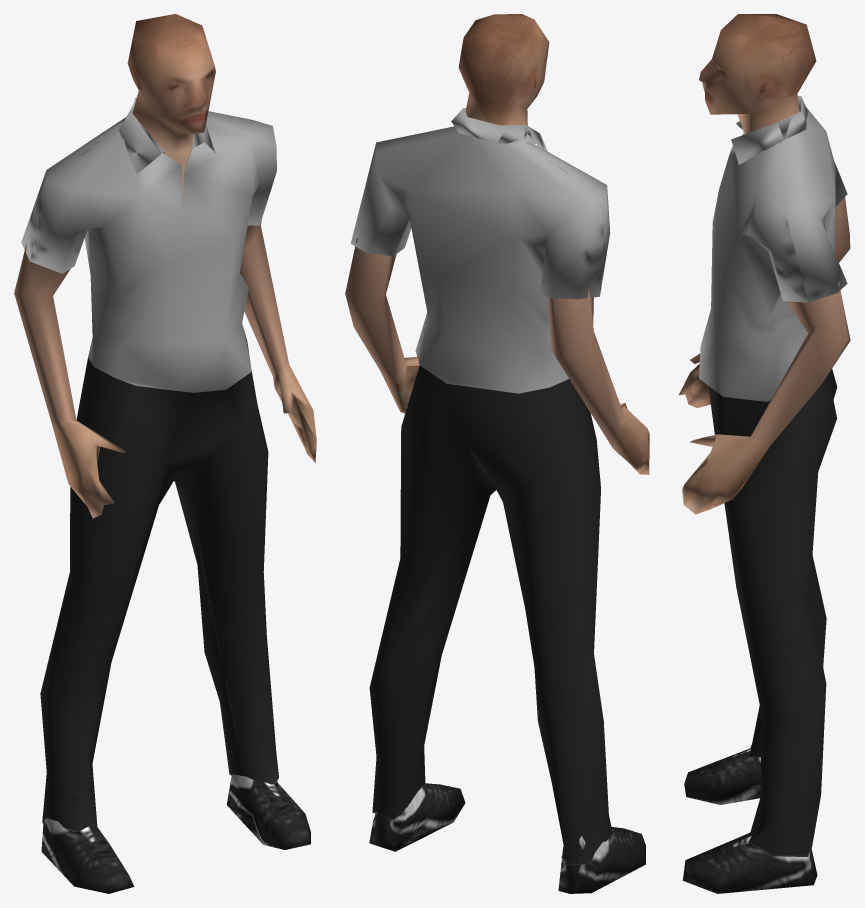
Rendered from LOW_Crew01_TEAM1_TW.fbx.
The picture shows the model from 3 angles, left to right: view 1: azimuth 30°, elevation 25°; view 2: azimuth 150°, elevation 25°; view 3: azimuth 270°, elevation 25°; orthographic projection.
Parts seen in each view (by area): view 1: LOW_Crew01_TEAM1_TW; view 2: LOW_Crew01_TEAM1_TW; view 3: LOW_Crew01_TEAM1_TW.
Part boxes in pixels (x1=…): LOW_Crew01_TEAM1_TW: x1=14, y1=14, x2=316, y2=893; LOW_Crew01_TEAM1_TW: x1=345, y1=14, x2=649, y2=893; LOW_Crew01_TEAM1_TW: x1=679, y1=14, x2=850, y2=893.
Size of the model in its own units: 54.17 by 179 by 33.92.
